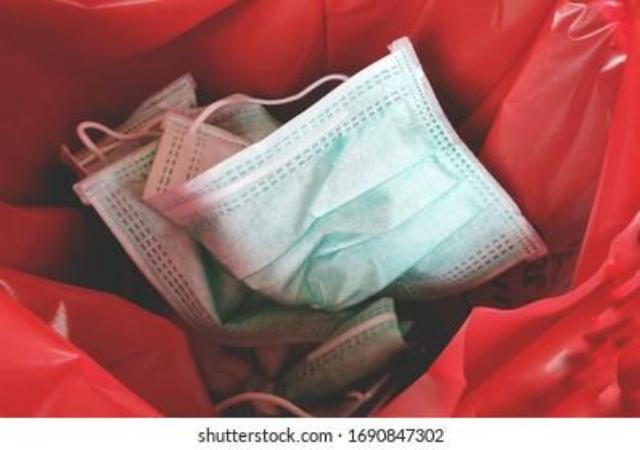Disposable: (62, 42, 548, 416)
Garbage: (48, 23, 564, 421)
